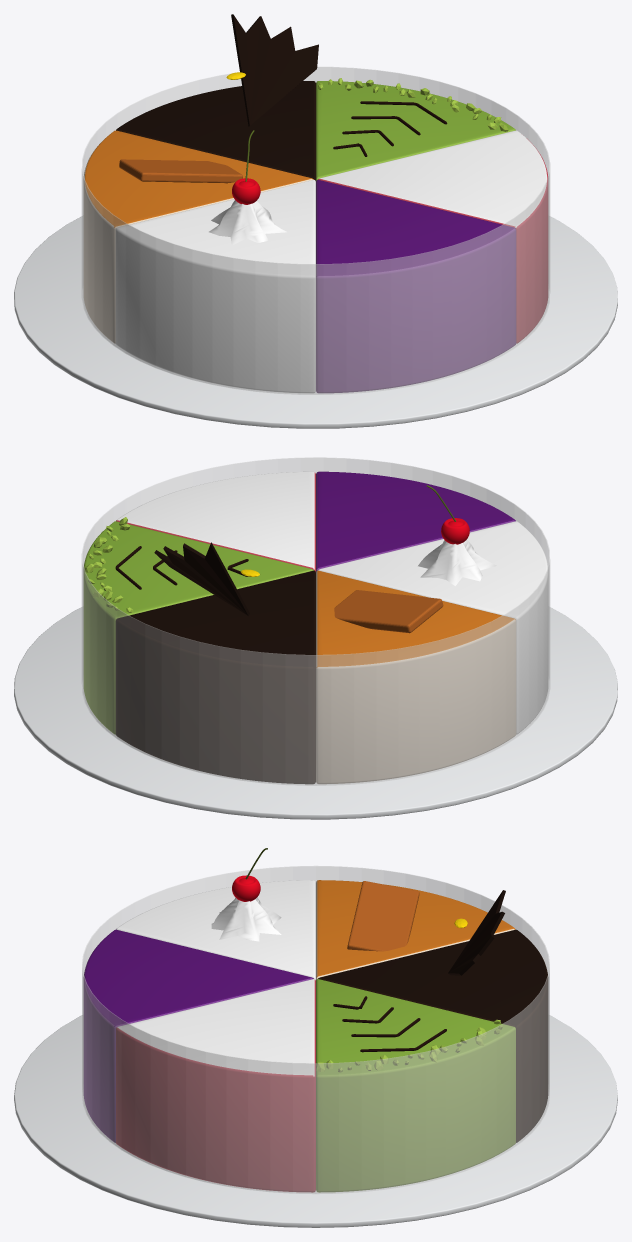
File: sampler_cake.glb
The picture shows the model from 3 angles, top to bottom: view 1: azimuth 30°, elevation 25°; view 2: azimuth 150°, elevation 25°; view 3: azimuth 270°, elevation 25°; orthographic projection.
Parts seen in each view (by area): view 1: AcetateCollar, CakeBoard, Slice_UbeVelvet, Slice_CookiesCream, Slice_RedVelvet, Slice_LotusBiscoff, Slice_Matcha, Slice_DarkChocolate, ChocShard, LotusBiscuit, CreamRosette, Cherry; view 2: AcetateCollar, CakeBoard, Slice_DarkChocolate, Slice_LotusBiscoff, Slice_CookiesCream, Slice_Matcha, Slice_RedVelvet, Slice_UbeVelvet, LotusBiscuit, ChocShard, CreamRosette, Cherry; view 3: AcetateCollar, CakeBoard, Slice_RedVelvet, Slice_Matcha, Slice_UbeVelvet, Slice_DarkChocolate, Slice_CookiesCream, Slice_LotusBiscoff, LotusBiscuit, CreamRosette, ChocShard, Cherry.
Part boxes in pixels (x1,y1,x2,y2): AcetateCollar: [81, 66, 550, 394]; CakeBoard: [14, 216, 617, 428]; Slice_UbeVelvet: [316, 180, 516, 393]; Slice_CookiesCream: [115, 180, 315, 393]; Slice_RedVelvet: [318, 130, 548, 343]; Slice_LotusBiscoff: [83, 130, 313, 343]; Slice_Matcha: [316, 81, 515, 180]; Slice_DarkChocolate: [116, 81, 315, 180]; ChocShard: [231, 14, 318, 126]; LotusBiscuit: [119, 159, 242, 183]; CreamRosette: [209, 200, 286, 245]; Cherry: [232, 178, 260, 204]; AcetateCollar: [81, 457, 550, 785]; CakeBoard: [14, 607, 617, 819]; Slice_DarkChocolate: [115, 570, 315, 784]; Slice_LotusBiscoff: [316, 570, 516, 784]; Slice_CookiesCream: [318, 521, 548, 734]; Slice_Matcha: [83, 521, 313, 734]; Slice_RedVelvet: [116, 471, 315, 571]; Slice_UbeVelvet: [316, 471, 515, 571]; LotusBiscuit: [334, 590, 443, 633]; ChocShard: [154, 542, 249, 615]; CreamRosette: [418, 540, 496, 585]; Cherry: [441, 518, 469, 544]; AcetateCollar: [82, 865, 549, 1194]; CakeBoard: [14, 1015, 617, 1227]; Slice_RedVelvet: [116, 979, 315, 1192]; Slice_Matcha: [316, 979, 515, 1192]; Slice_UbeVelvet: [83, 929, 313, 1142]; Slice_DarkChocolate: [318, 929, 548, 1142]; Slice_CookiesCream: [116, 880, 315, 980]; Slice_LotusBiscoff: [316, 880, 515, 980]; LotusBiscuit: [347, 881, 419, 951]; CreamRosette: [211, 897, 281, 941]; ChocShard: [448, 890, 505, 975]; Cherry: [232, 875, 260, 901].
Bounding box in the file's own units: 2.6 × 1.03 × 2.6.
